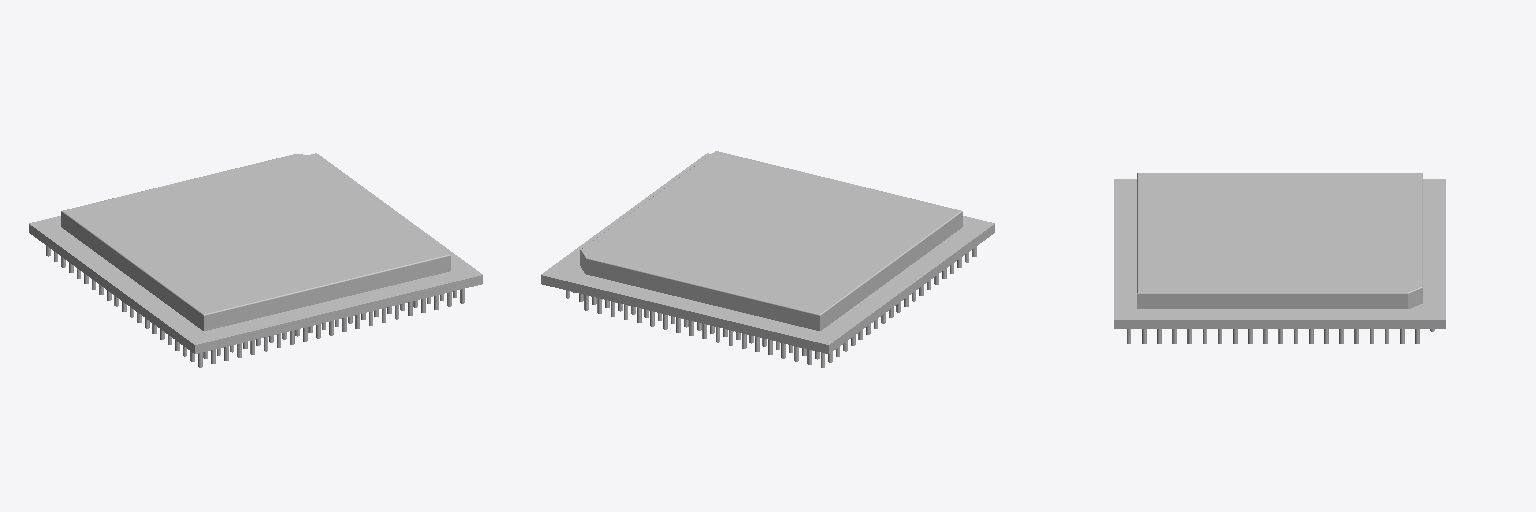
File: cpu1.obj
The picture shows the model from 3 angles: view 1: azimuth 30°, elevation 25°; view 2: azimuth 150°, elevation 25°; view 3: azimuth 270°, elevation 25°; orthographic projection.
Visible parts, largest first — view 1: Mesh374 pentium_4_1 Model; view 2: Mesh374 pentium_4_1 Model; view 3: Mesh374 pentium_4_1 Model.
Boxes of the visible parts, box(x1,y1,x2,y2) form: Mesh374 pentium_4_1 Model: box(29, 153, 482, 353); Mesh374 pentium_4_1 Model: box(541, 151, 994, 353); Mesh374 pentium_4_1 Model: box(1114, 173, 1445, 328).
Bounding box in the file's own units: 40.32 × 6.26 × 40.32.